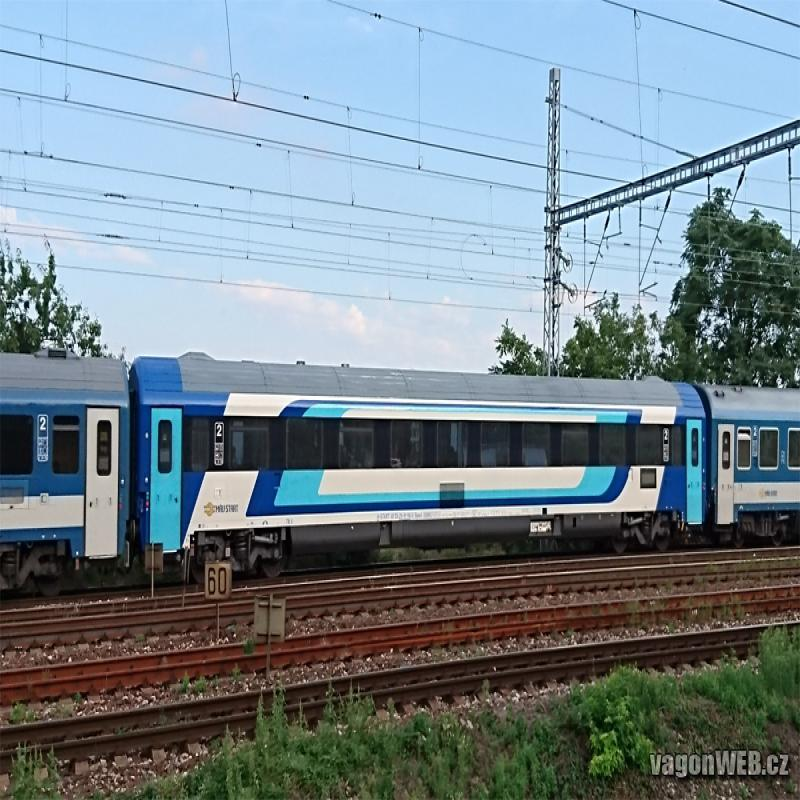train: (132, 352, 708, 589)
